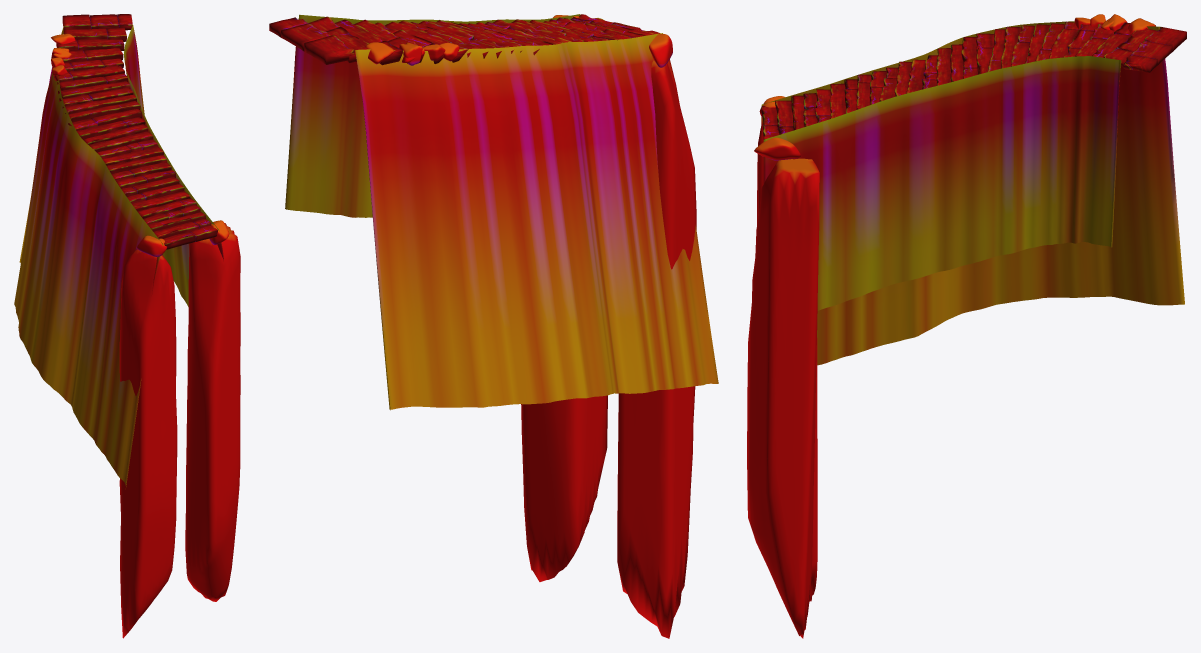
The model's file is stairs.glb.
3 renders of one model, left to right at view 1: azimuth 30°, elevation 25°; view 2: azimuth 150°, elevation 25°; view 3: azimuth 270°, elevation 25°, orthographic. The views are drawn at different scales.
Visible parts, largest first — view 1: stair_cheek_right_feet, stair_face_left, stair_blocks, stair_cheek_right, stair_stones; view 2: stair_face_left, stair_cheek_right_feet, stair_cheek_right, stair_blocks, stair_stones; view 3: stair_cheek_right, stair_face_left, stair_cheek_right_feet, stair_blocks, stair_stones.
Part boxes in pixels (x1,y1,x2,y2): stair_cheek_right_feet: (119, 223, 240, 638); stair_face_left: (14, 27, 163, 486); stair_blocks: (52, 14, 217, 249); stair_cheek_right: (123, 25, 223, 306); stair_stones: (51, 34, 229, 256); stair_face_left: (355, 33, 718, 410); stair_cheek_right_feet: (521, 60, 696, 638); stair_cheek_right: (285, 14, 580, 217); stair_blocks: (269, 14, 659, 65); stair_stones: (365, 15, 672, 67); stair_cheek_right: (763, 56, 1121, 310); stair_face_left: (761, 21, 1184, 365); stair_cheek_right_feet: (747, 123, 819, 638); stair_blocks: (761, 21, 1186, 139); stair_stones: (754, 14, 1155, 160).
Size of the model in its own units: 7.36 by 20.96 by 13.35.
Materials: 2 (1 with a texture image).
